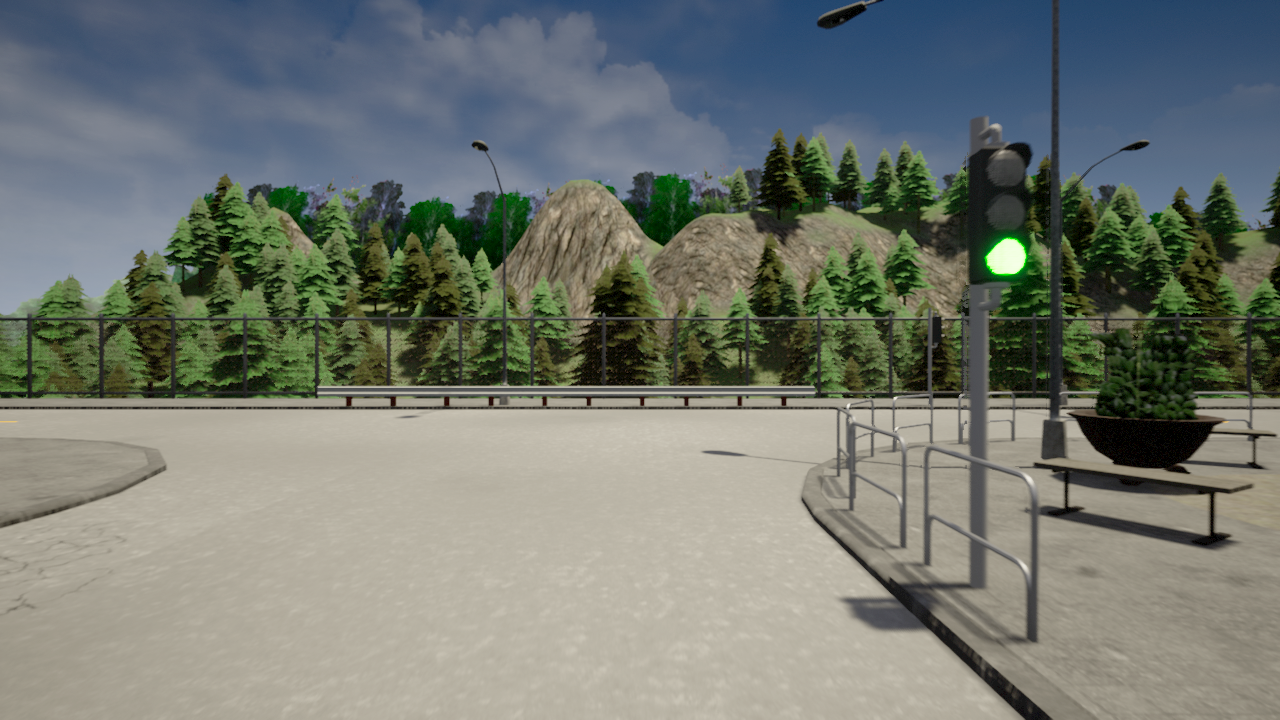green: (971, 142, 1027, 290)
